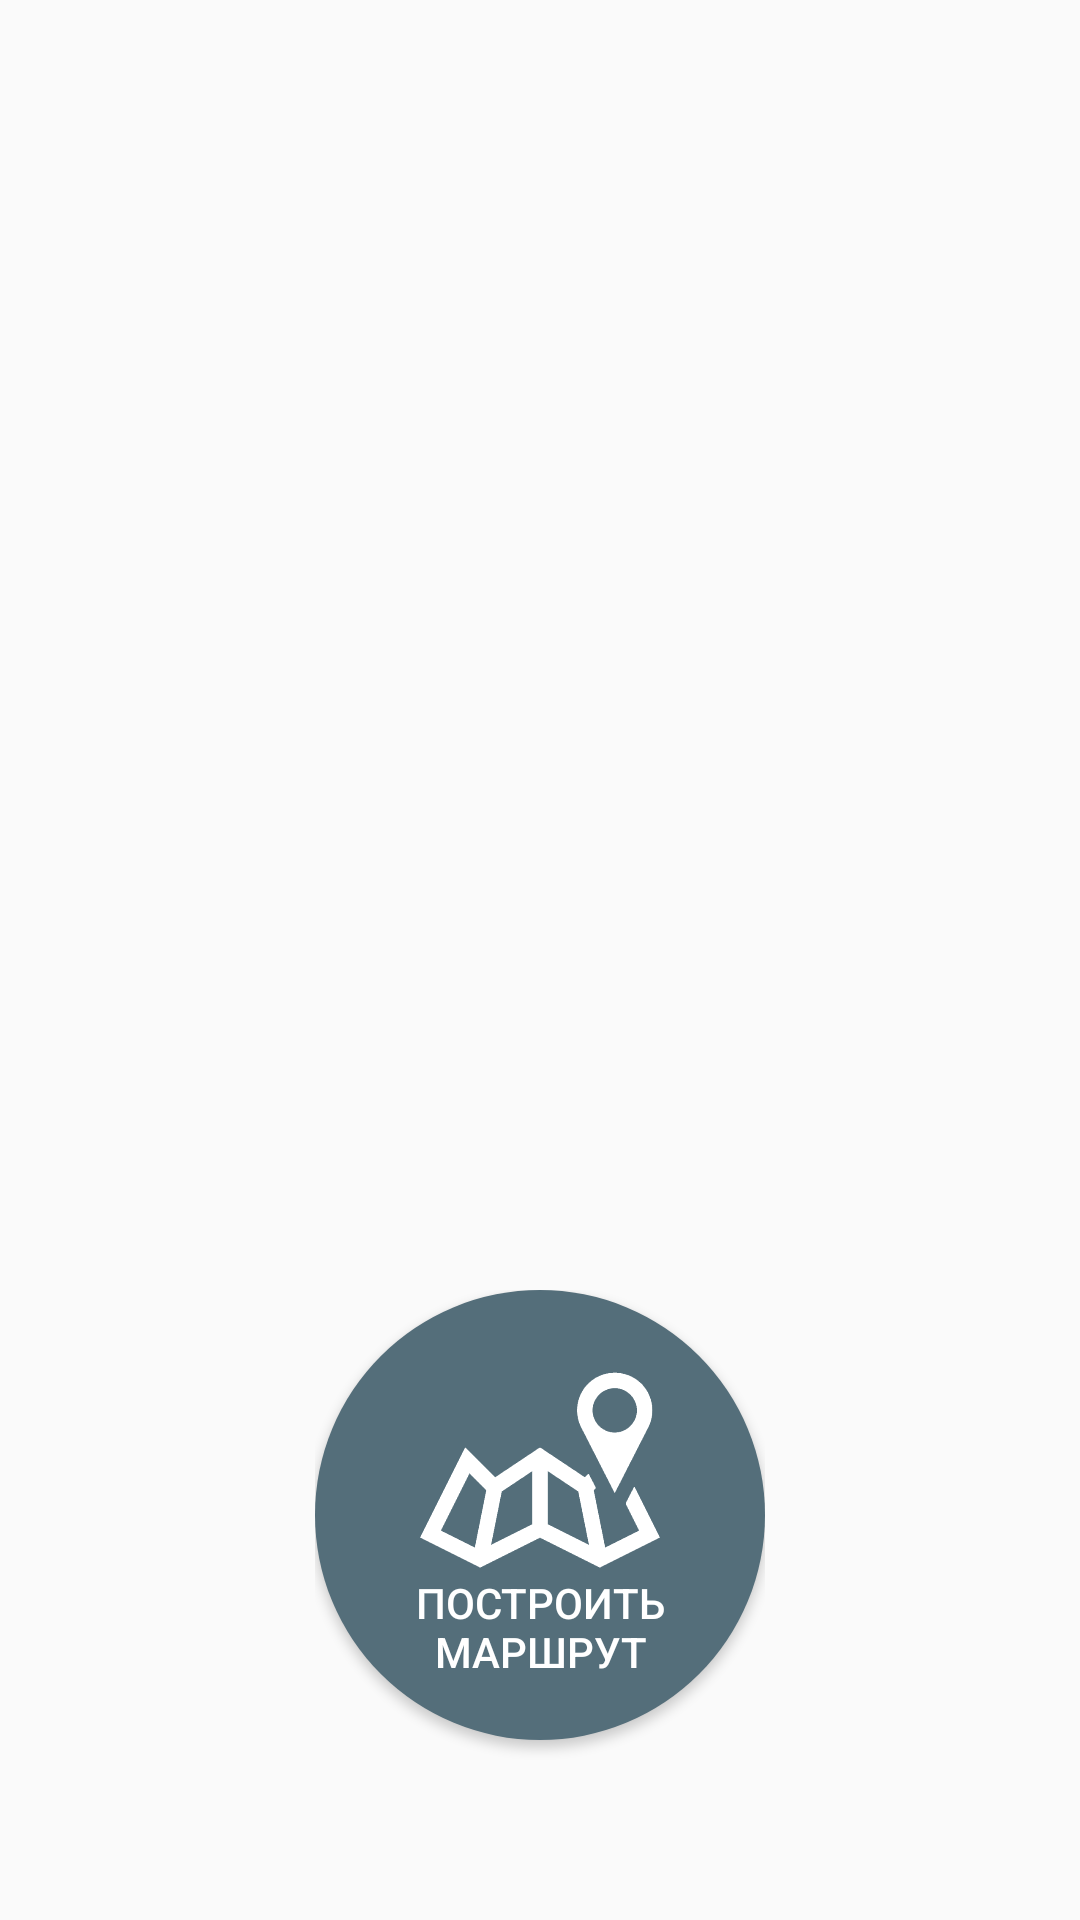

Icons on this 1080 × 1920 Android screen, each with its box as (x1, y1, x2, y2):
map: (420, 1372, 660, 1568)
